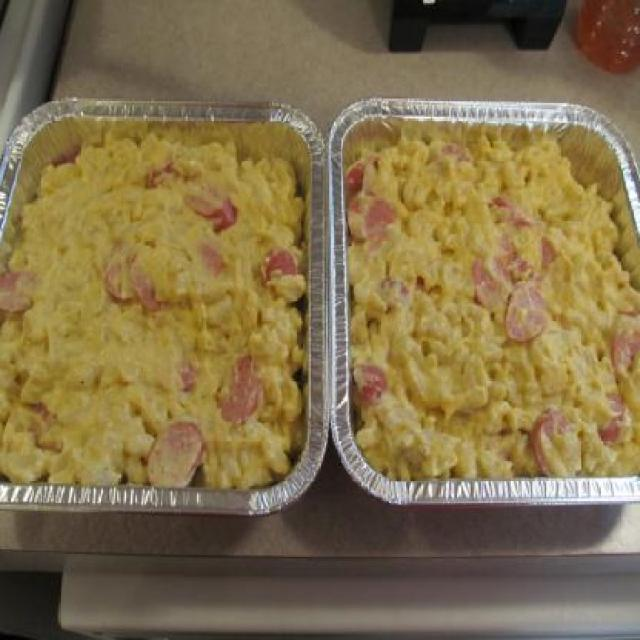hot dog: (467, 189, 555, 342), (175, 172, 239, 276), (341, 141, 397, 254), (144, 408, 207, 495), (602, 305, 640, 447), (96, 242, 166, 309), (529, 396, 580, 481), (222, 356, 262, 424), (1, 253, 42, 318), (348, 358, 392, 405), (261, 240, 299, 288)
macaroni and cheese: (3, 98, 640, 504)
